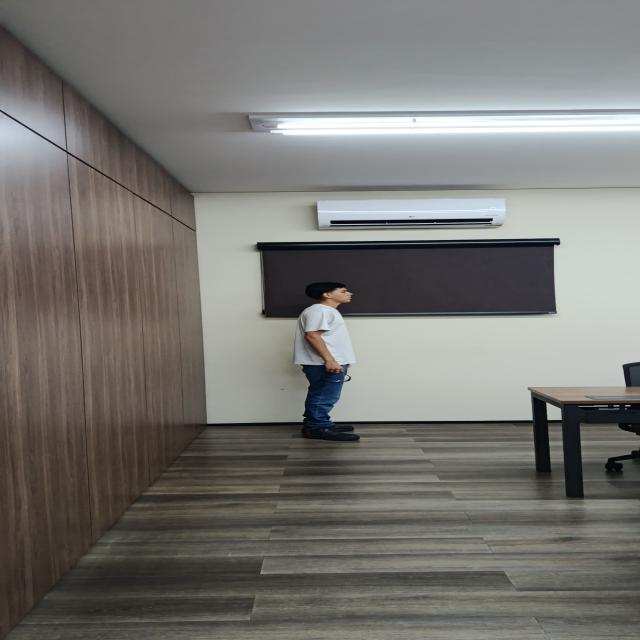sem_oculos: (324, 290, 353, 295)
